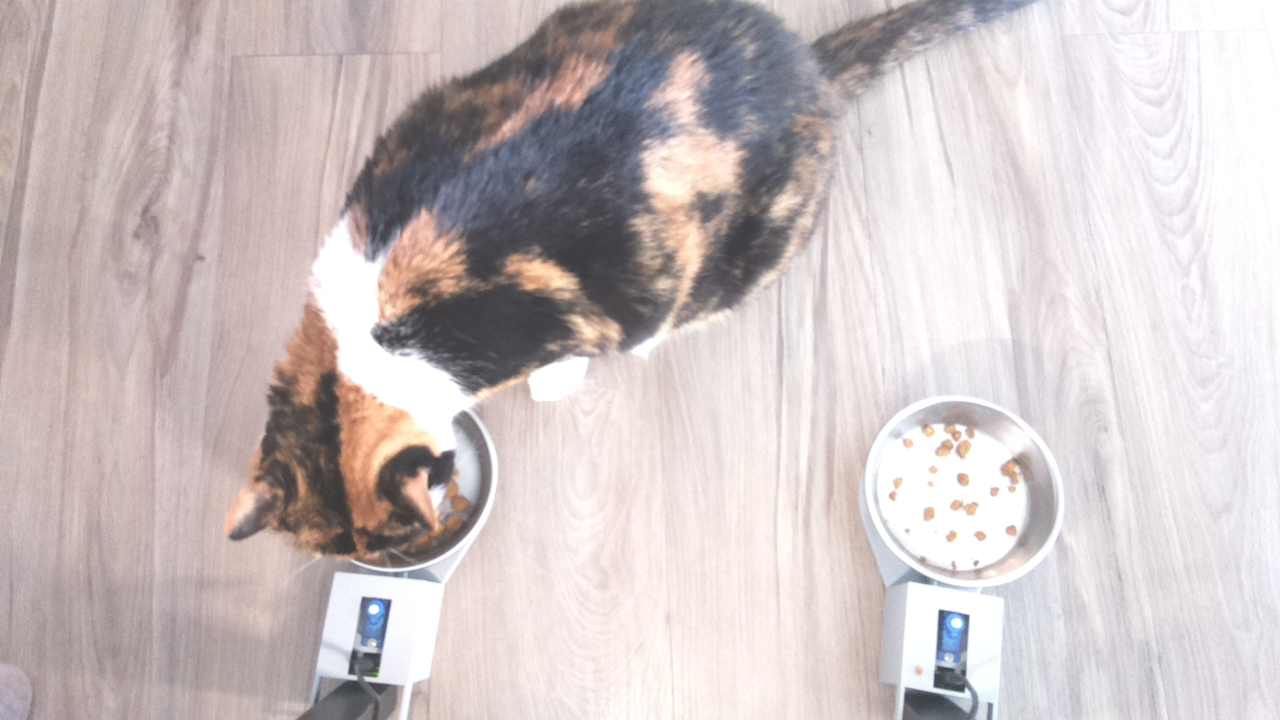bella_eating: (225, 319, 506, 578)
open_bowl: (858, 392, 1063, 591)
